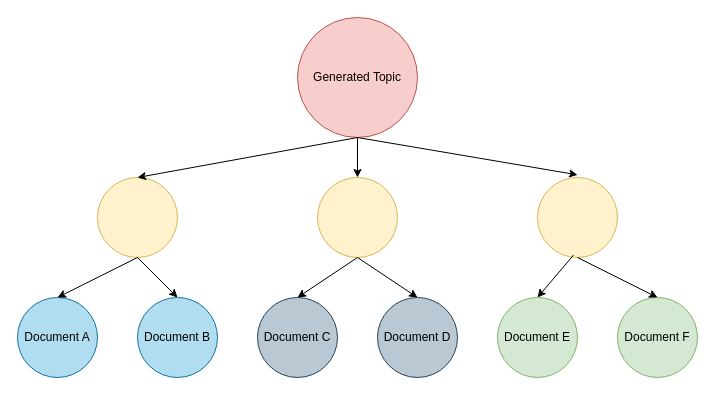
Image size: 715x395. Some labels were removed from this diagram. Here are the shapes that lost their labels. From the top down, the centre of each, then its label:
At [137,217]: "Seed Document 3".
At [357,217]: "Seed Document 2".
At [577,217]: "Seed Document 1".
